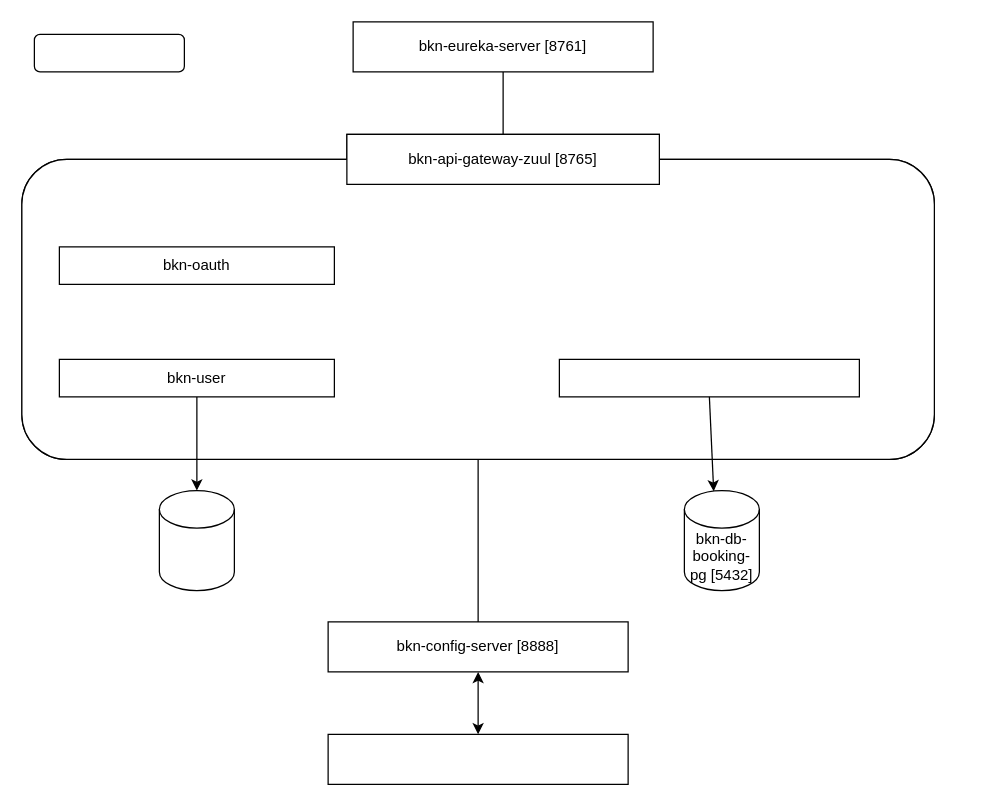
The diagram is 981 pixels wide and 806 high, and some of its shapes have lost their labels. The centre of each missing label's shape, as x and y in pixels:
"bkn-booking" belongs at point 708,377.
"bkn-db-user-pg [5433]" belongs at point 196,540.
"git-repository" belongs at point 477,758.
"network: bkn-net" belongs at point 108,52.
